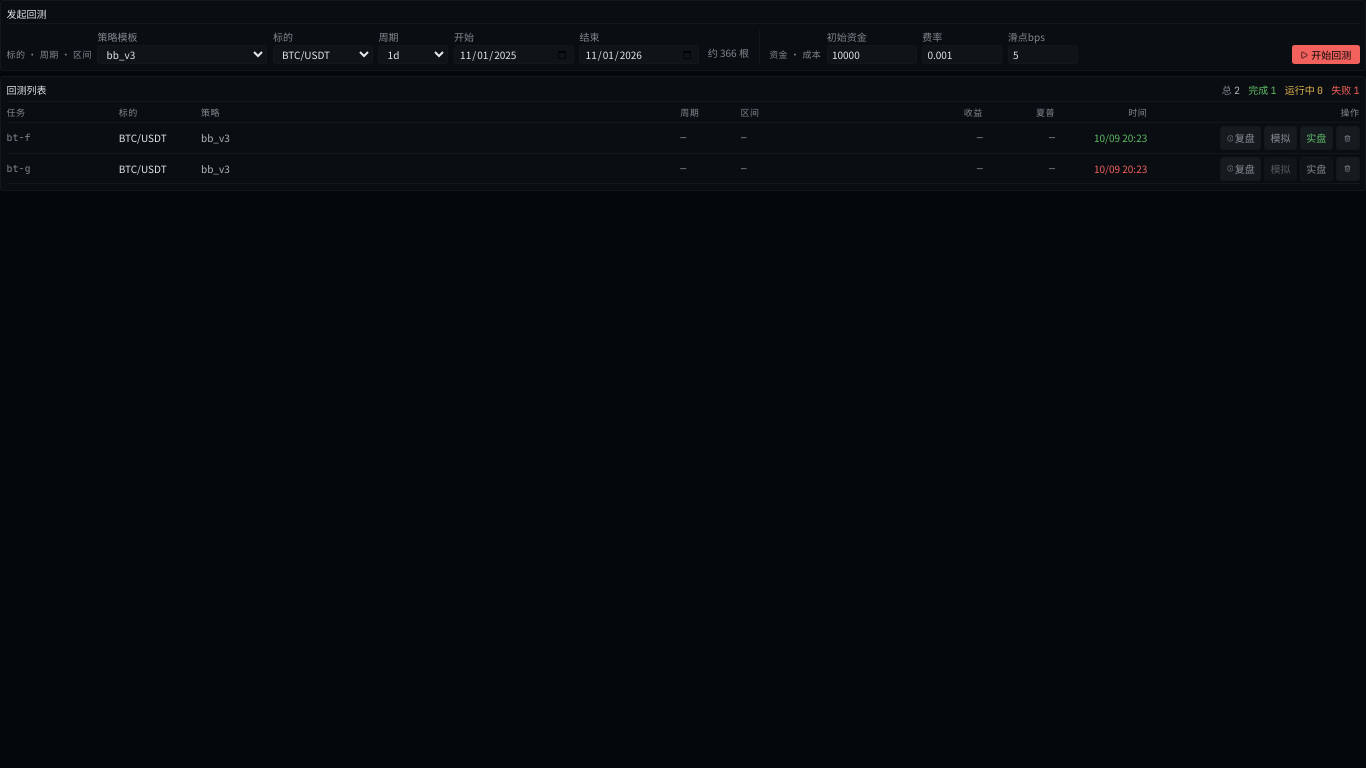
Test: 回测列表三修(名字兜底 / 时间显示 / 实盘确认) › AC7+AC10: 点实盘不直接跳转,弹确认框;failed 行按钮仍禁用
Expected: the button "实盘" in the row of "bt-g" is disabled, x1=1300 y1=157 x2=1333 y2=181
Step 1. Click the button "实盘" in the row of "bt-f" → click(1316, 138), box x1=1300 y1=126 x2=1333 y2=150
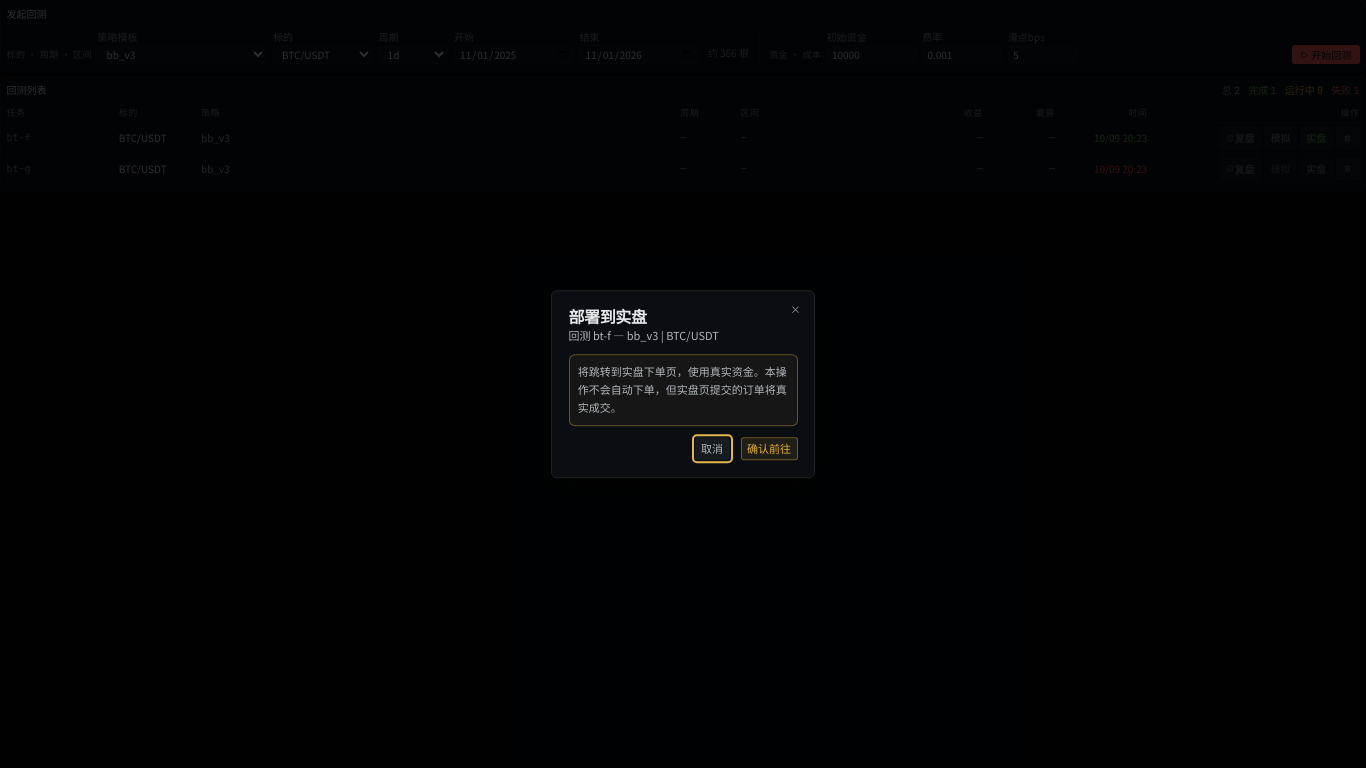
Expected: the heading "部署到实盘" is shown, x1=568 y1=304 x2=646 y2=328
Expected: the text "将跳转到实盘下单页，使用真实资金。本操作不会自动下单，但实盘页提交的订单将真实成交。" is shown, x1=568 y1=354 x2=798 y2=426
